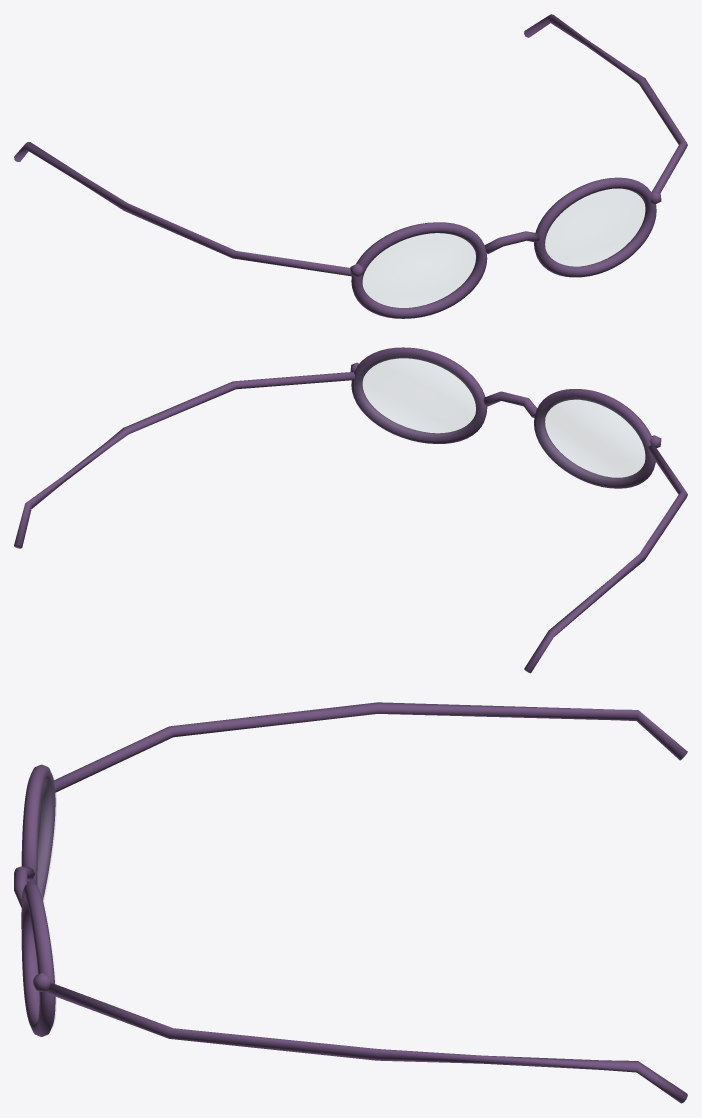
Rendered from 07-tiny-oval.glb.
3 views of the same model, one above another, from view 1: azimuth 30°, elevation 25°; view 2: azimuth 150°, elevation 25°; view 3: azimuth 270°, elevation 25° (orthographic). The views are drawn at different scales.
Visible parts, largest first — view 1: Glasses07_Lens-12, Glasses07_Lens14, Glasses07_Rim-11, Glasses07_Rim13, Glasses07_Temple-16, Glasses07_Temple18, Glasses07_Bridge5; view 2: Glasses07_Lens14, Glasses07_Lens-12, Glasses07_Rim13, Glasses07_Rim-11, Glasses07_Temple18, Glasses07_Temple-16, Glasses07_Bridge5; view 3: Glasses07_Temple-16, Glasses07_Temple18, Glasses07_Rim13, Glasses07_Rim-11, Glasses07_Lens-12.
Part boxes in pixels (<box>): Glasses07_Lens-12: <box>363,233,475,307</box>; Glasses07_Lens14: <box>545,189,644,265</box>; Glasses07_Rim-11: <box>351,222,487,318</box>; Glasses07_Rim13: <box>534,177,656,277</box>; Glasses07_Temple-16: <box>14,142,352,276</box>; Glasses07_Temple18: <box>524,14,687,192</box>; Glasses07_Bridge5: <box>484,231,539,253</box>; Glasses07_Lens14: <box>354,358,475,440</box>; Glasses07_Lens-12: <box>536,399,644,480</box>; Glasses07_Rim13: <box>351,347,487,443</box>; Glasses07_Rim-11: <box>534,389,655,488</box>; Glasses07_Temple18: <box>14,372,354,548</box>; Glasses07_Temple-16: <box>524,445,687,673</box>; Glasses07_Bridge5: <box>483,391,536,417</box>; Glasses07_Temple-16: <box>54,702,687,792</box>; Glasses07_Temple18: <box>46,983,687,1103</box>; Glasses07_Rim13: <box>21,883,55,1036</box>; Glasses07_Rim-11: <box>21,764,55,899</box>; Glasses07_Lens-12: <box>38,773,56,900</box>.
Size of the model in its own units: 0.633 by 0.106 by 0.506.
